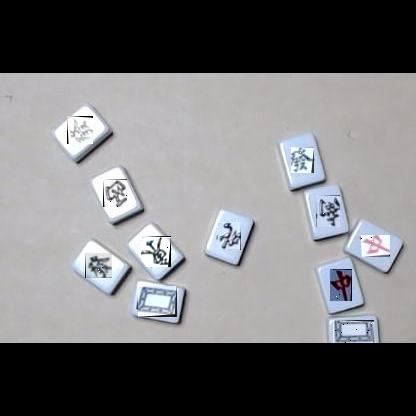1z: (141, 236, 171, 267)
2z: (316, 195, 340, 227)
3z: (103, 179, 127, 207)
4z: (217, 222, 241, 250)
5z: (138, 286, 177, 317), (333, 320, 374, 343)
6z: (67, 116, 93, 144), (85, 253, 112, 278), (291, 147, 314, 173)
7z: (330, 269, 352, 301), (361, 235, 390, 257)
